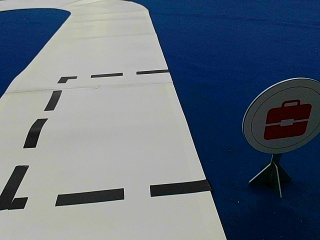company: (242, 79, 318, 153)
